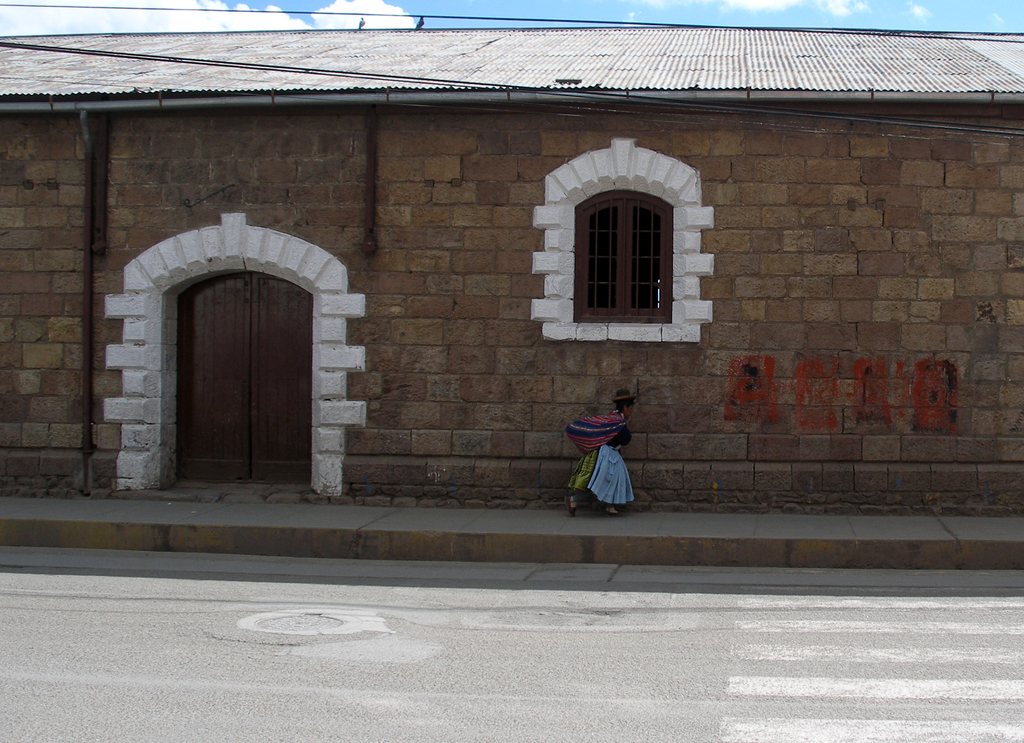door: (182, 290, 258, 477), (246, 298, 317, 478)
